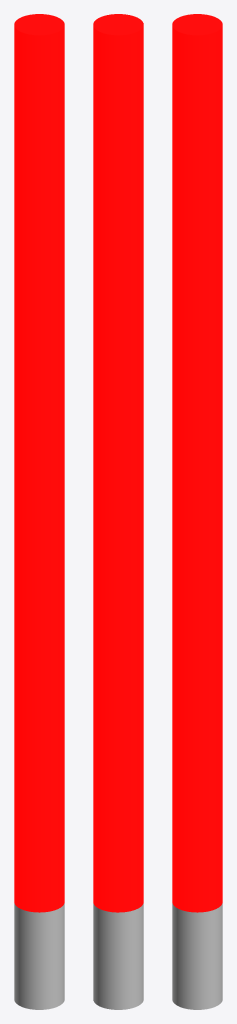
3 renders of one model, left to right at view 1: azimuth 90°, elevation 25°; view 2: azimuth 210°, elevation 25°; view 3: azimuth 270°, elevation 25°, orthographic.
Visible parts, largest first — view 1: Cylinder; view 2: Cylinder; view 3: Cylinder.
Part boxes in pixels (x1=…): Cylinder: x1=14, y1=14, x2=64, y2=1009; Cylinder: x1=93, y1=14, x2=143, y2=1009; Cylinder: x1=172, y1=14, x2=222, y2=1009.
Bounding box in the file's own units: 8.13 × 173 × 8.13.
